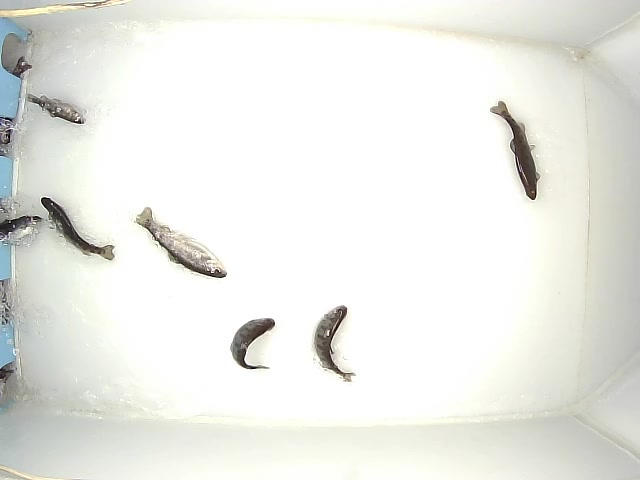fish: (132, 204, 229, 279), (488, 100, 542, 204), (40, 195, 116, 261), (311, 303, 358, 384), (229, 318, 276, 370), (26, 92, 87, 125)
